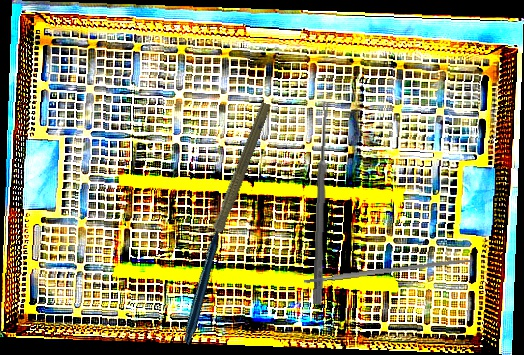Handpiece: (139, 214, 275, 346), (196, 99, 275, 259)
Scalpel Handle: (303, 256, 472, 285)
Surgical Spoon: (312, 101, 331, 305)
